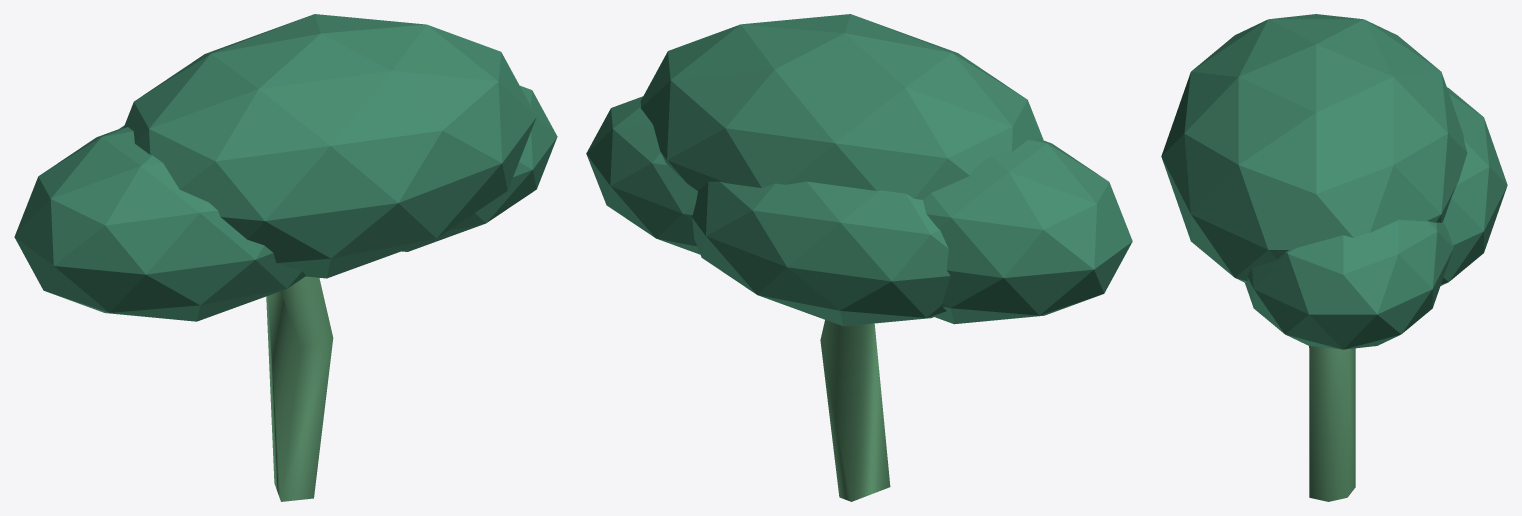
File: raintree-v2.glb
3 views of the same model, side by side, from view 1: azimuth 30°, elevation 25°; view 2: azimuth 150°, elevation 25°; view 3: azimuth 270°, elevation 25° (orthographic). The views are drawn at different scales.
Visible parts, largest first — view 1: Canopy cluster.001, Canopy cluster, Curved trunk, Canopy cluster.002; view 2: Canopy cluster, Canopy cluster.001, Canopy cluster.002, Curved trunk; view 3: Canopy cluster.001, Canopy cluster.002, Curved trunk, Canopy cluster.
Part boxes in pixels (x1,y1,x2,y2): Canopy cluster.001: (123,14,536,278); Canopy cluster: (14,126,305,321); Curved trunk: (266,276,333,501); Canopy cluster.002: (402,85,557,251); Canopy cluster: (691,137,1132,326); Canopy cluster.001: (640,14,1043,199); Canopy cluster.002: (586,96,700,254); Curved trunk: (820,320,890,501); Canopy cluster.001: (1161,14,1467,282); Canopy cluster.002: (1245,220,1453,349); Curved trunk: (1309,346,1355,501); Canopy cluster: (1440,87,1507,285).
Size of the model in its own units: 5.05 by 4.33 by 2.96.
